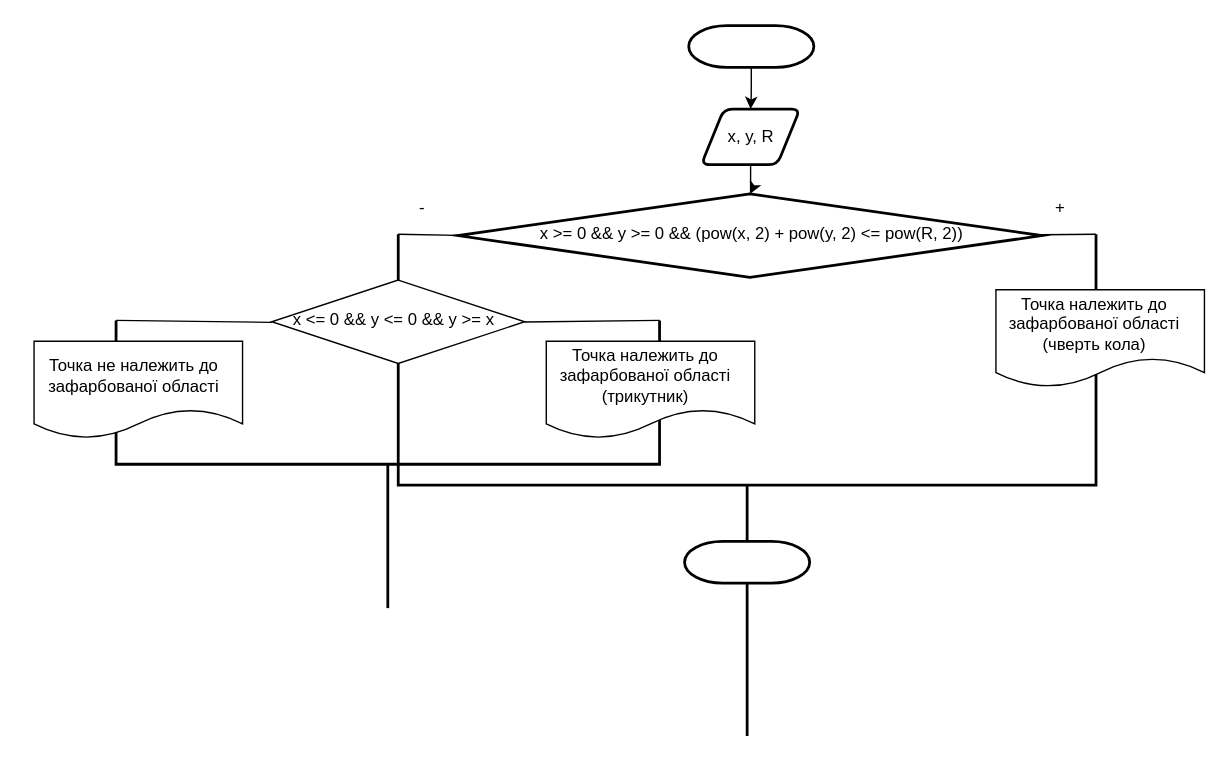
Some shapes in this 1229 by 760 pixel diagram are drawn without their labels. The centre of each missing label's shape, as x and y in pixels:
кінець: the point at 746,561
початок: the point at 751,46
